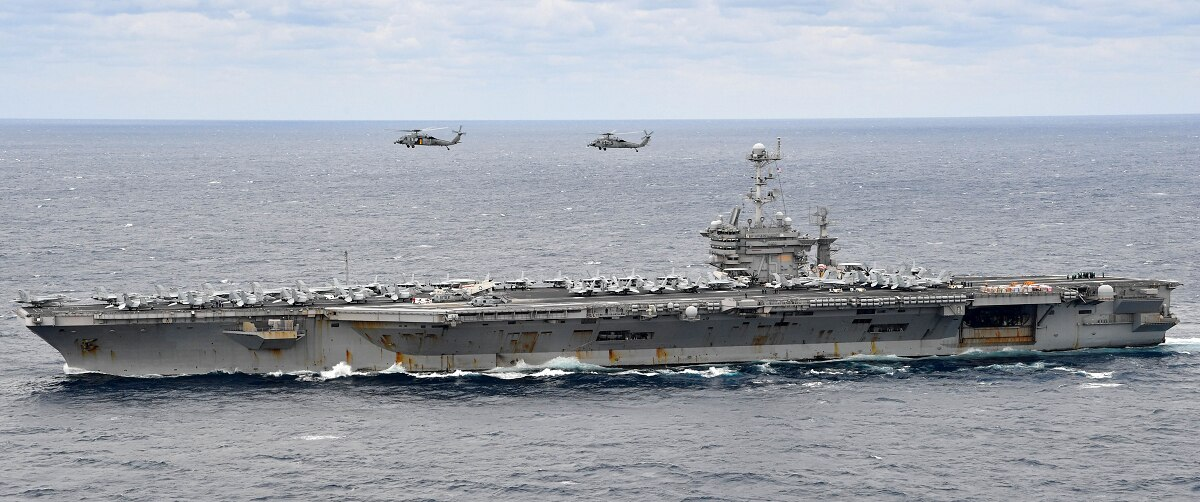rust: (962, 316, 1044, 349), (564, 345, 637, 365), (378, 336, 416, 371), (71, 335, 115, 363), (503, 332, 540, 364), (261, 346, 292, 360), (338, 346, 357, 368), (648, 348, 672, 363)
